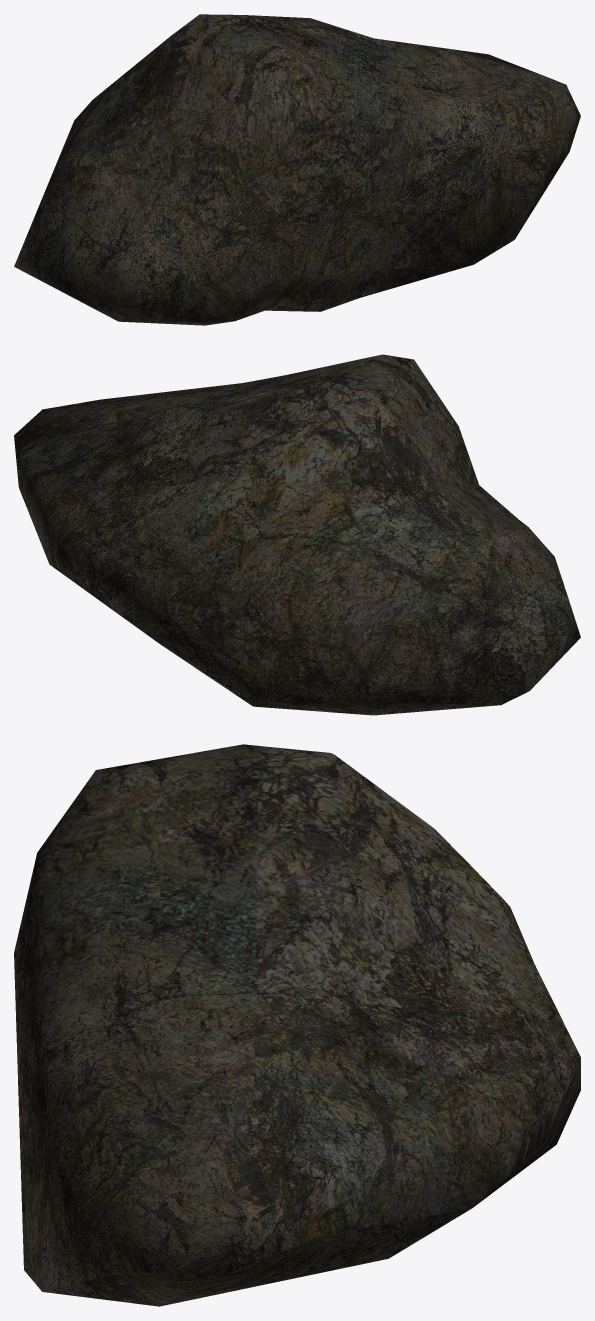
The model's file is G3_Object_Stone_03.obj.
The picture shows the model from 3 angles, top to bottom: view 1: azimuth 30°, elevation 25°; view 2: azimuth 150°, elevation 25°; view 3: azimuth 270°, elevation 25°; orthographic projection. The views are drawn at different scales.
Visible parts, largest first — view 1: G3_Object_Stone_03_0; view 2: G3_Object_Stone_03_0; view 3: G3_Object_Stone_03_0.
Part boxes in pixels (x1,y1,x2,y2): G3_Object_Stone_03_0: (14, 14, 580, 325); G3_Object_Stone_03_0: (14, 354, 580, 715); G3_Object_Stone_03_0: (14, 744, 580, 1306).
Bounding box in the file's own units: 5.3 × 2.6 × 3.05.
